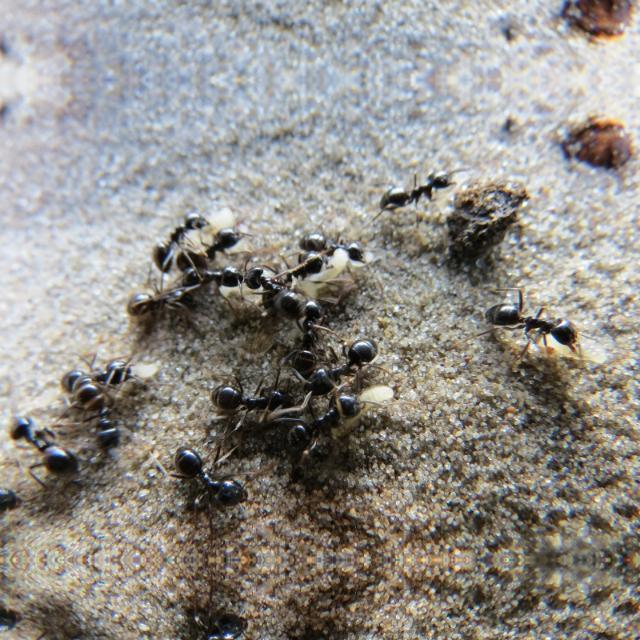Lasius: (484, 282, 604, 358), (66, 370, 144, 456), (0, 397, 84, 473), (162, 443, 264, 505), (371, 152, 454, 224), (286, 396, 386, 444), (147, 202, 219, 266), (309, 321, 405, 369), (213, 366, 295, 422), (116, 270, 204, 318), (169, 255, 265, 292), (43, 355, 139, 389), (242, 255, 300, 311), (292, 289, 348, 345), (294, 220, 358, 268), (160, 614, 264, 640), (192, 227, 252, 270)
